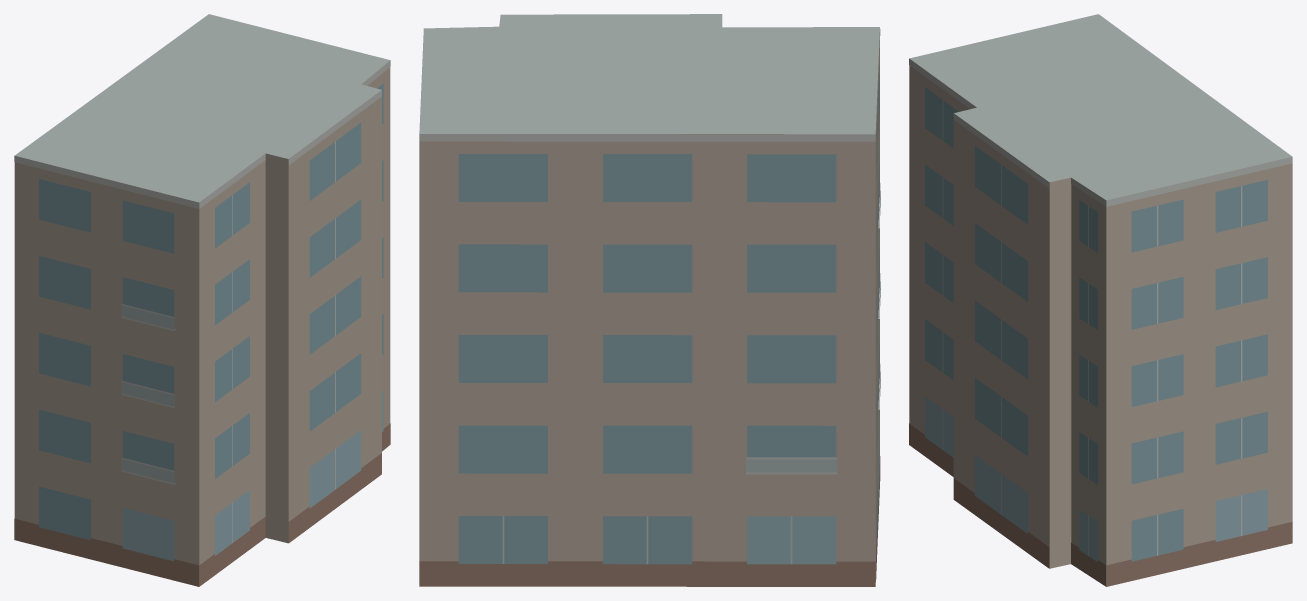
The model's file is survey-upis-32959507.glb.
The picture shows the model from 3 angles, left to right: view 1: azimuth 30°, elevation 25°; view 2: azimuth 150°, elevation 25°; view 3: azimuth 270°, elevation 25°; orthographic projection. The views are drawn at different scales.
Parts seen in each view (by area): view 1: survey-upis-32959507.tmp; view 2: survey-upis-32959507.tmp; view 3: survey-upis-32959507.tmp.
Part boxes in pixels (x1,y1,x2,y2): survey-upis-32959507.tmp: [14, 14, 390, 586]; survey-upis-32959507.tmp: [419, 14, 880, 586]; survey-upis-32959507.tmp: [909, 14, 1292, 586].
Size of the model in its own units: 15.01 by 14.5 by 13.05.
